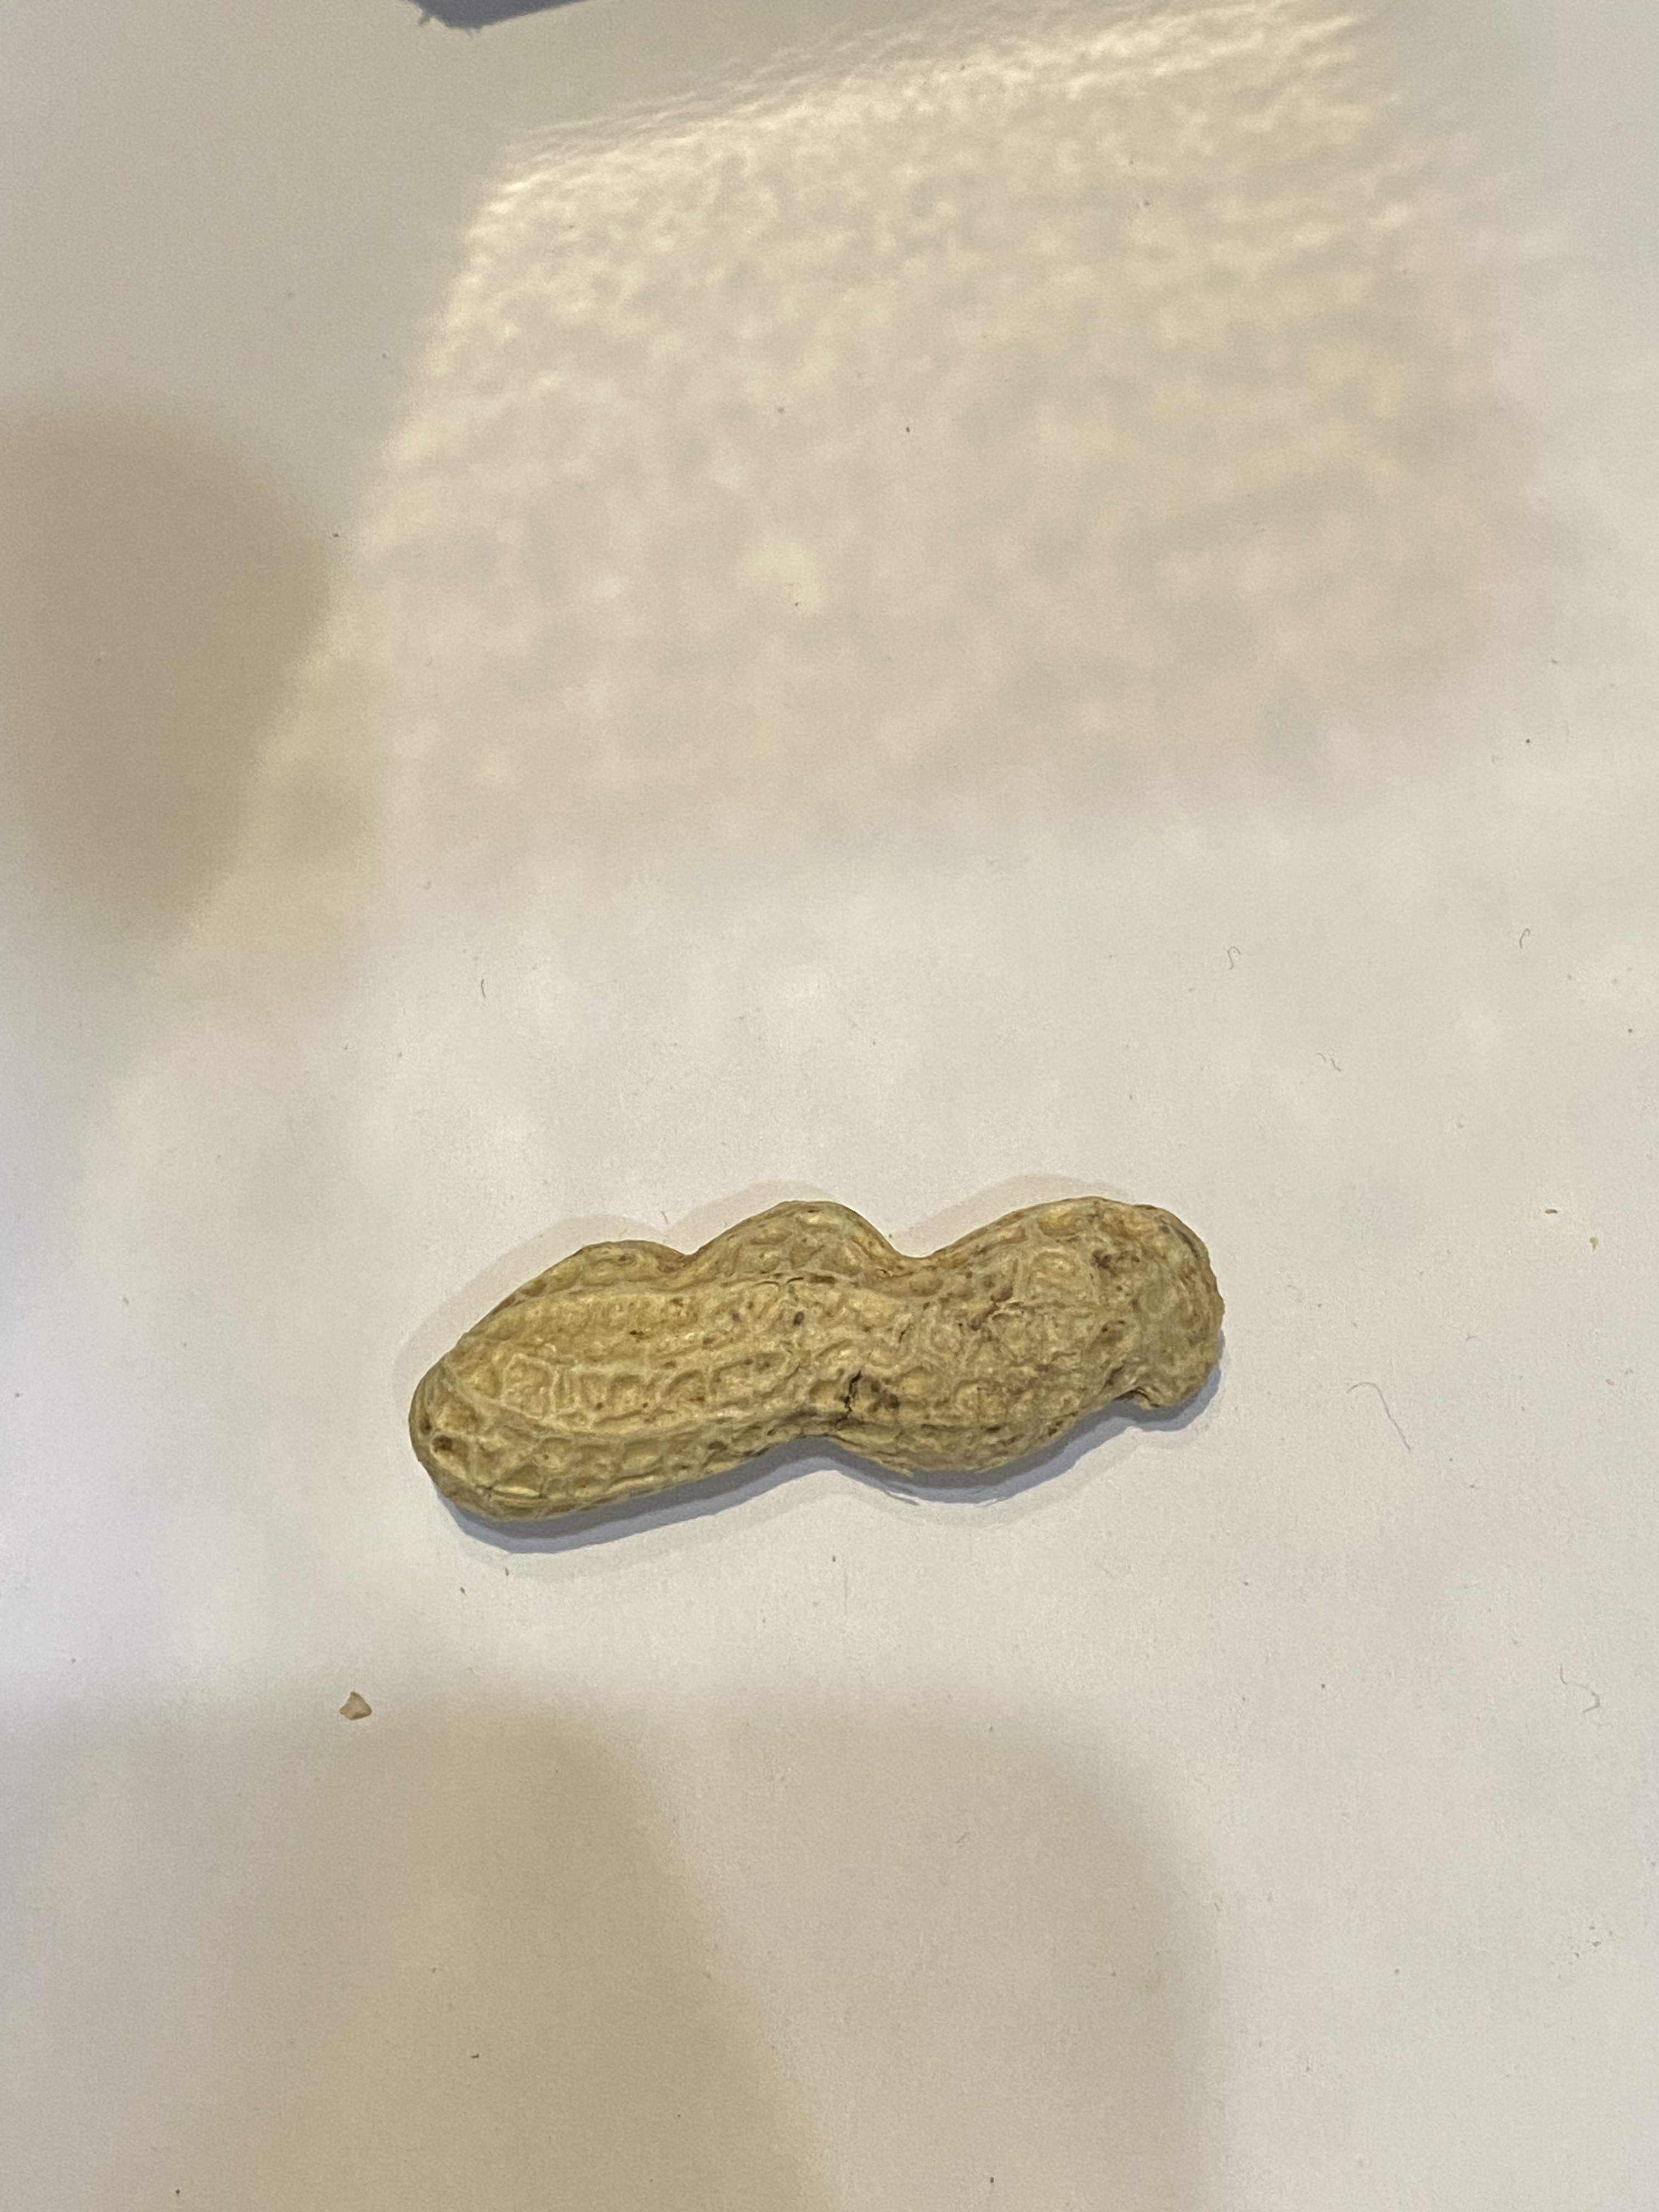kacang3: (389, 1184, 1288, 1541)
